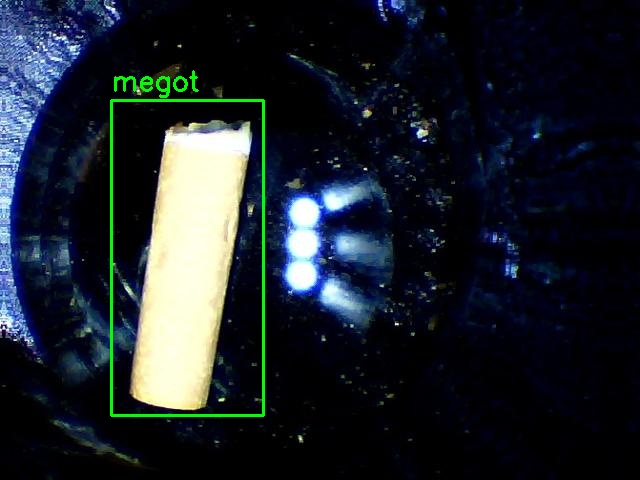megot: (111, 100, 263, 415)
